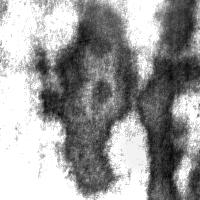patches: (38, 3, 136, 194), (137, 47, 199, 199), (75, 0, 195, 62), (105, 109, 183, 187), (155, 1, 198, 56)
